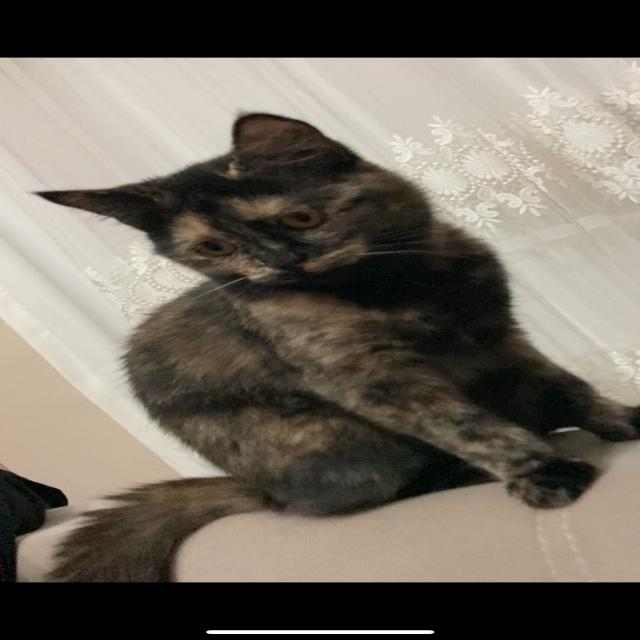authorized: (27, 111, 637, 582)
